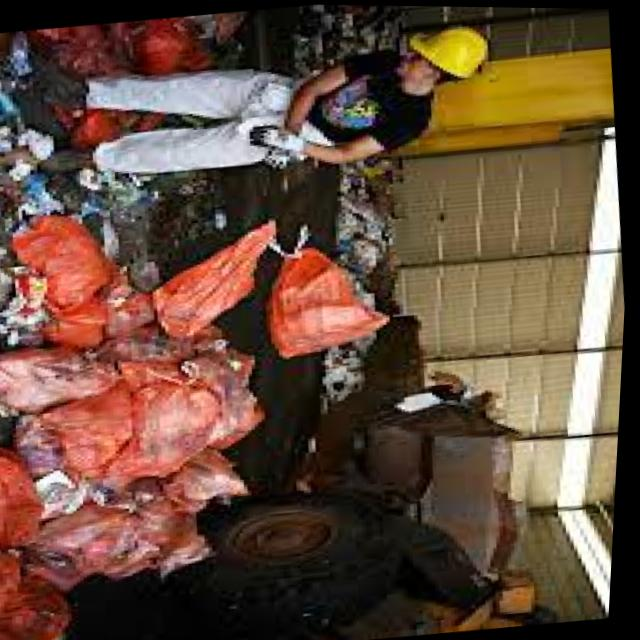Wet: (0, 184, 434, 640), (0, 88, 80, 362)
